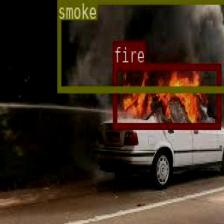fire: (113, 63, 220, 128)
smoke: (56, 0, 224, 90)
